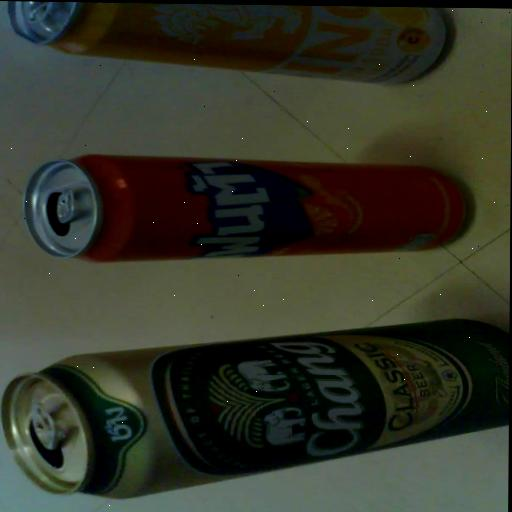canned: (0, 301, 510, 511), (0, 138, 493, 285), (0, 0, 472, 97)
